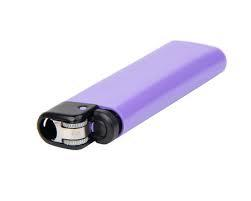lighter: (38, 38, 226, 150)
